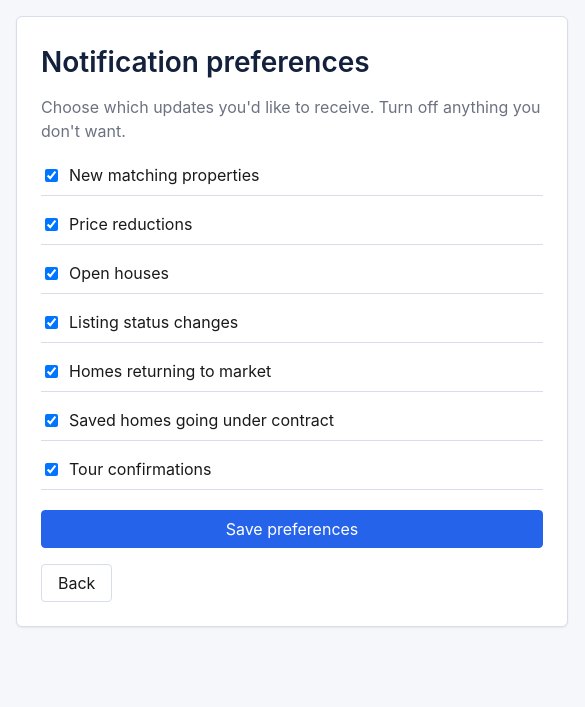
Test: NotificationPreferencesPage › shows a not-authenticated message when the session has expired
This screenshot has width=585, height=707.
Check: the checkbox labelled "Tour confirmations" is shown, box 45,462 -> 58,476
Click the button "Save preferences".
click(292, 529)  # box 41,510 -> 543,548
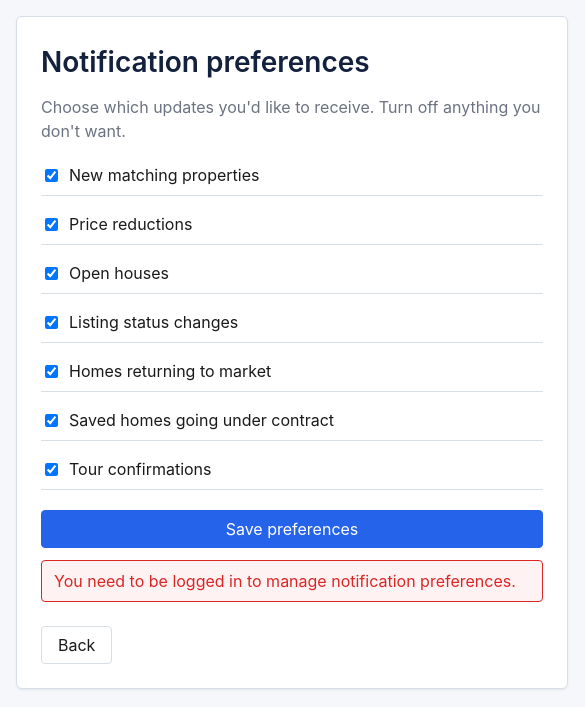
Check: the message shows "need to be logged in", box 54,571 -> 516,591
